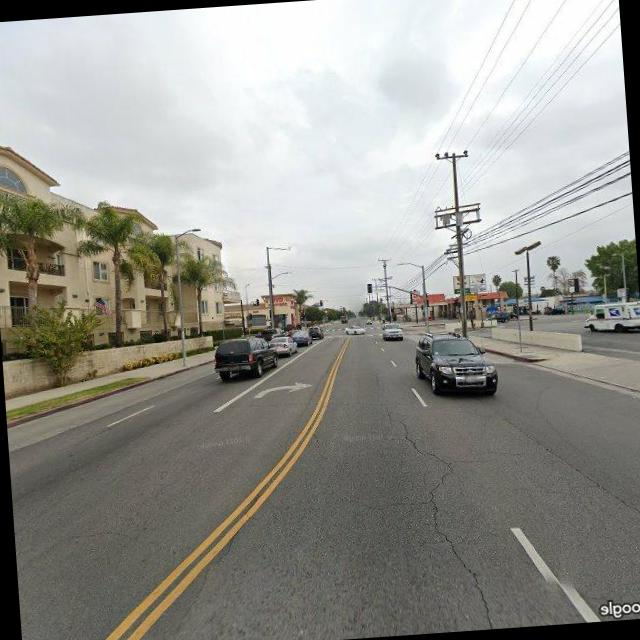pothole: (369, 364, 516, 632)
